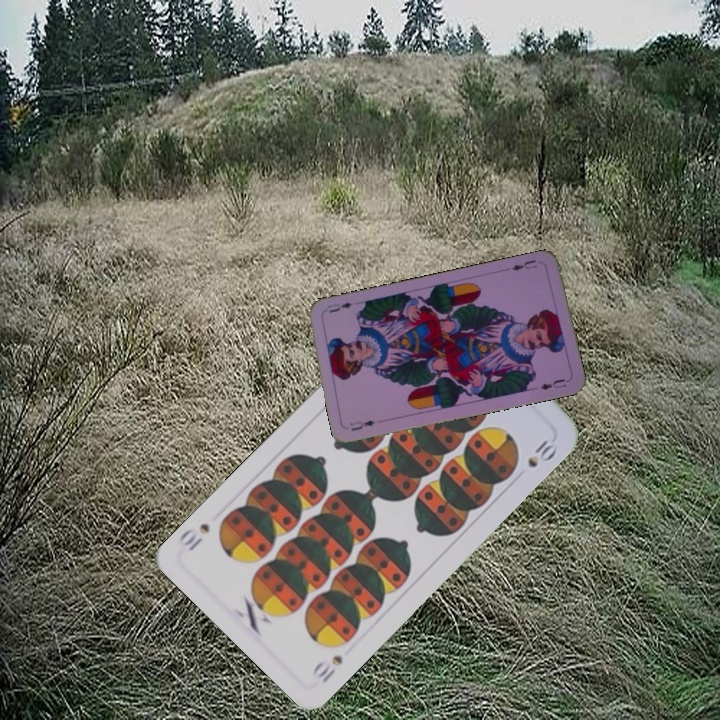EU: (346, 416, 378, 434), (508, 256, 539, 273)
S10: (308, 651, 346, 686)
